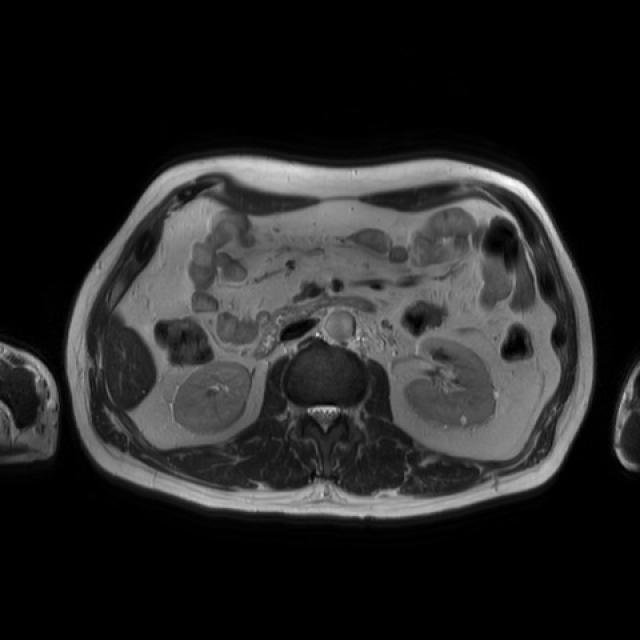sag: (173, 362, 254, 434)
sol: (406, 338, 495, 429)
